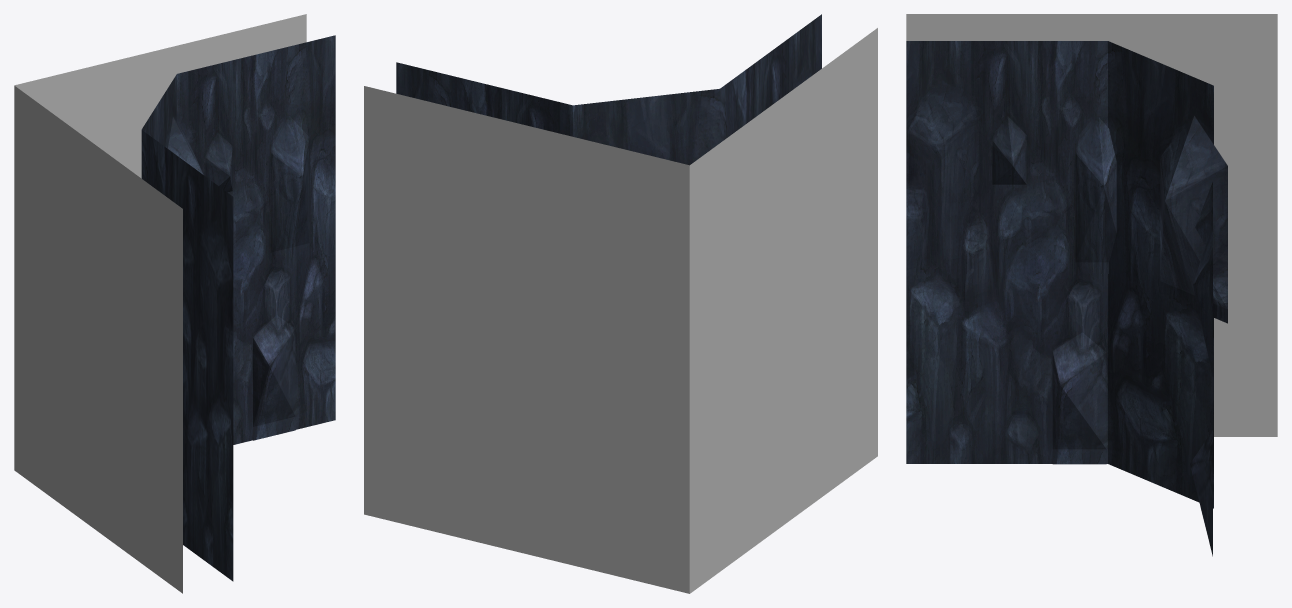
File: mine_wall_concave_01.fbx
The picture shows the model from 3 angles, left to right: view 1: azimuth 30°, elevation 25°; view 2: azimuth 150°, elevation 25°; view 3: azimuth 270°, elevation 25°; orthographic projection. The views are drawn at different scales.
Visible parts, largest first — view 1: obj1.003; view 2: obj1.003; view 3: obj1.003.
Part boxes in pixels (x1,y1,x2,y2): obj1.003: (14,14,335,593); obj1.003: (364,14,877,593); obj1.003: (906,14,1277,556).
Bounding box in the file's own units: 4.38 × 5.5 × 4.38.
